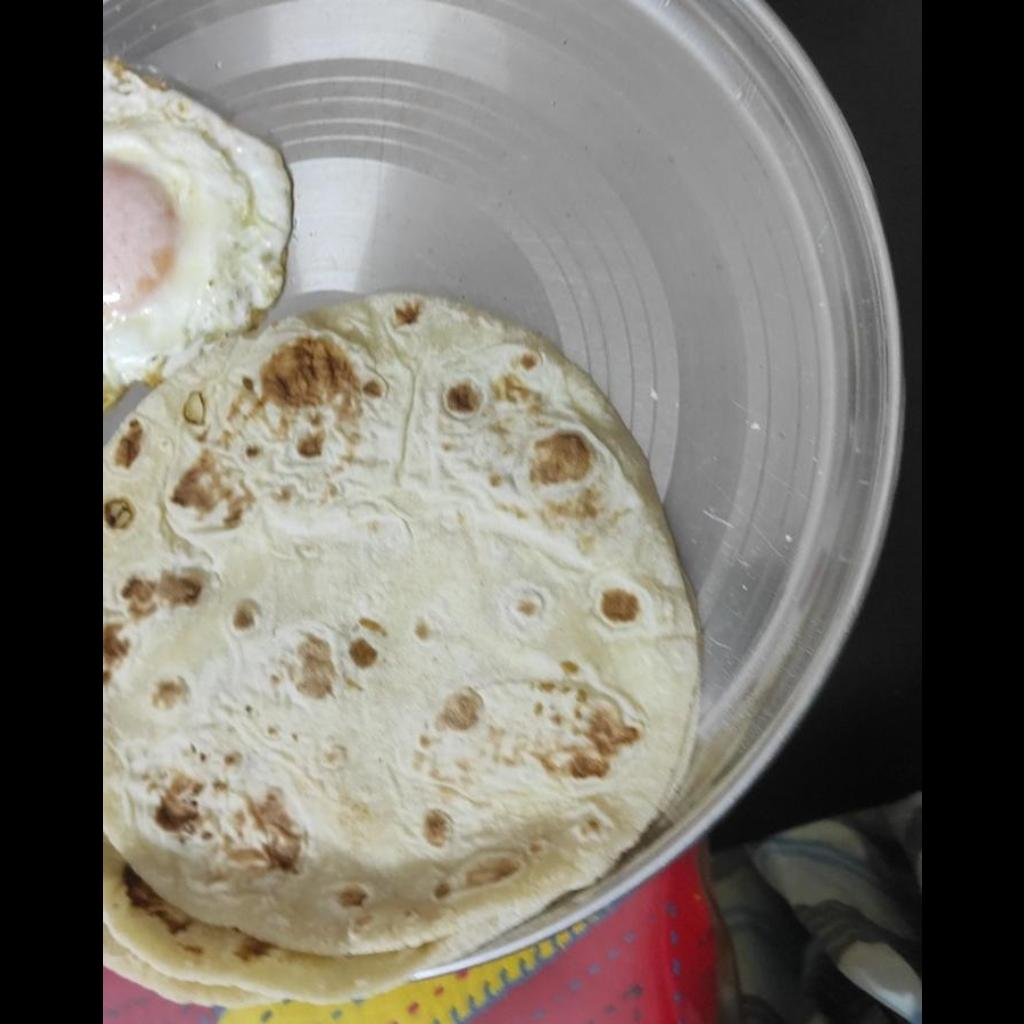egg-poached: (102, 50, 289, 395)
ruti: (102, 292, 698, 1012)
